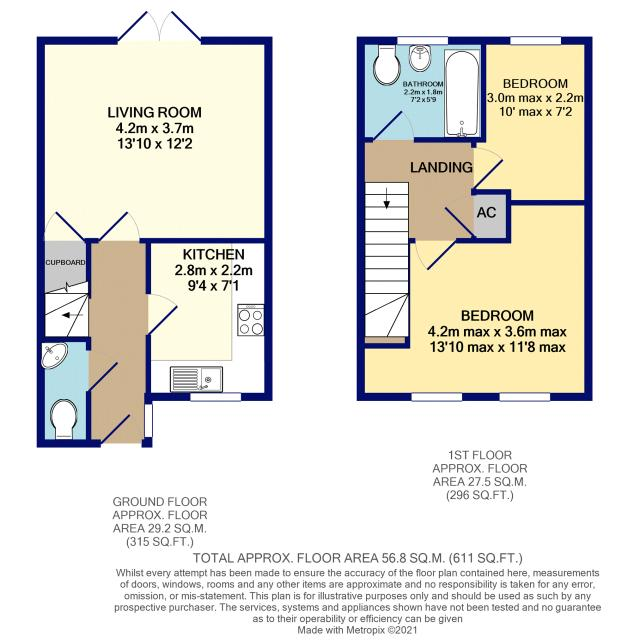DOOR: (371, 106, 416, 143), (99, 411, 143, 448), (145, 292, 181, 337), (470, 146, 505, 190), (97, 209, 141, 244), (413, 238, 458, 272), (86, 349, 120, 393)
DOUBLE DOOR: (117, 9, 202, 46)
ROOM: (36, 9, 273, 244), (356, 200, 593, 402), (144, 238, 273, 401), (470, 36, 593, 206)
WINDOW: (396, 35, 450, 47), (410, 392, 463, 402), (509, 36, 562, 46), (189, 392, 242, 402), (499, 392, 551, 402), (143, 403, 153, 438)
